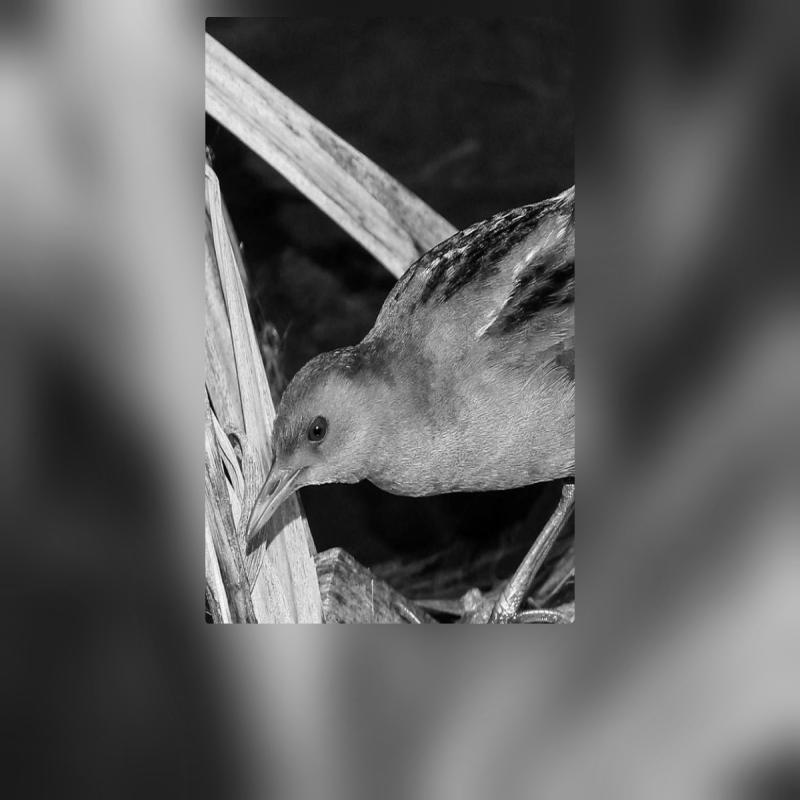little crake: (236, 151, 580, 564)
